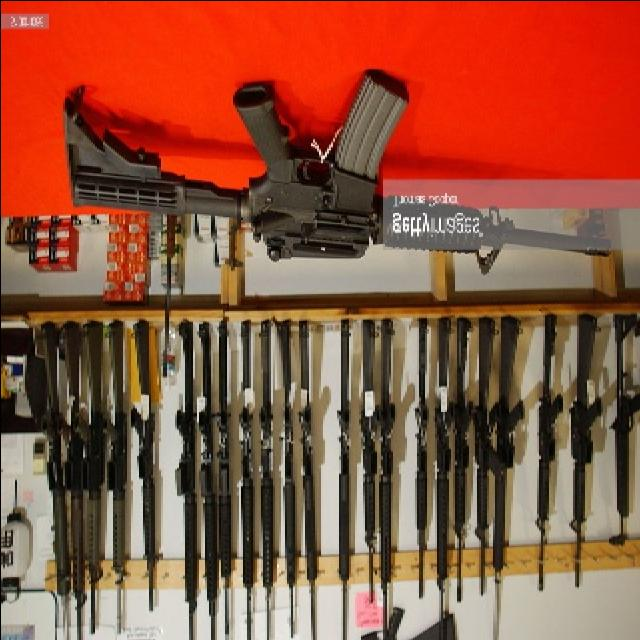rifle: (31, 315, 631, 640), (35, 73, 623, 277)
